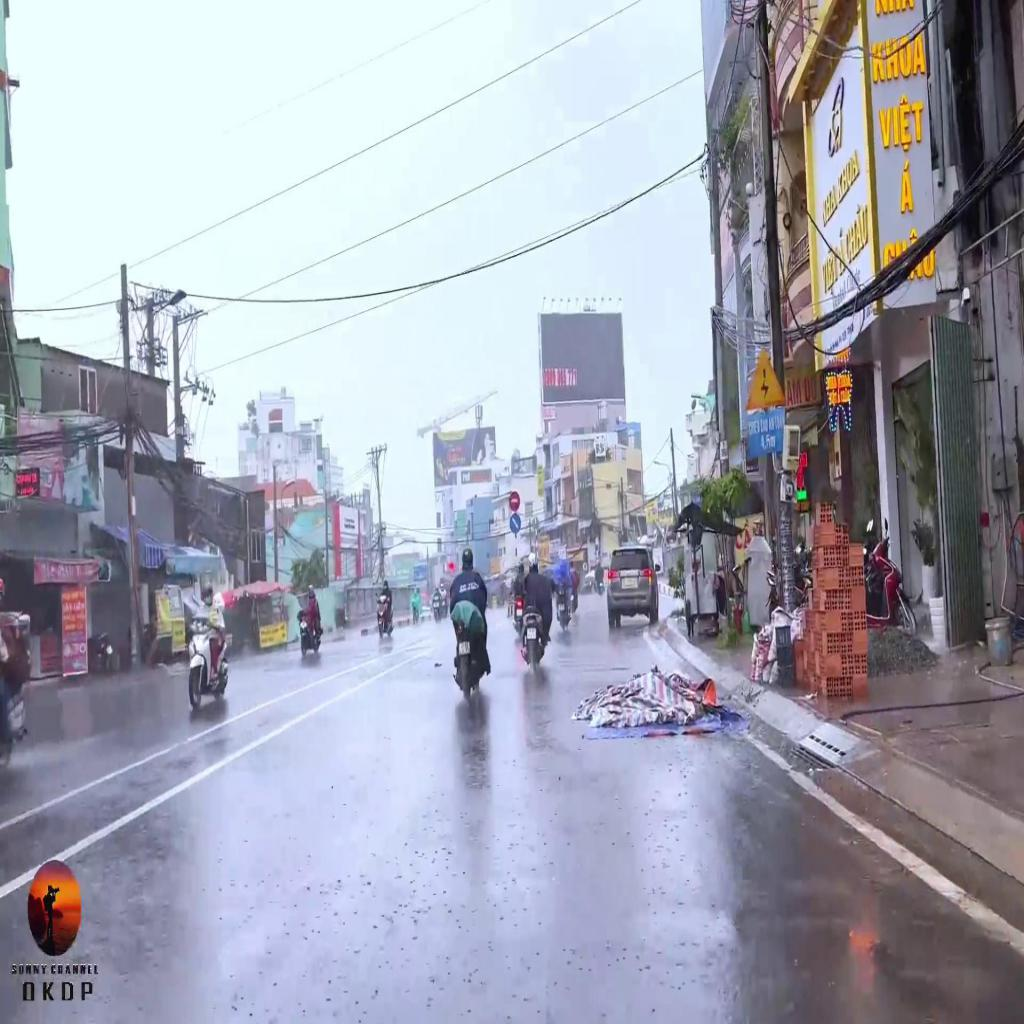cam_xe_di_nguoc_chieu: (508, 488, 521, 514)
huong_phai_di_vuot_chuong_ngai_vat_phai: (508, 511, 521, 535)
khac: (744, 344, 786, 411), (745, 410, 787, 460)
